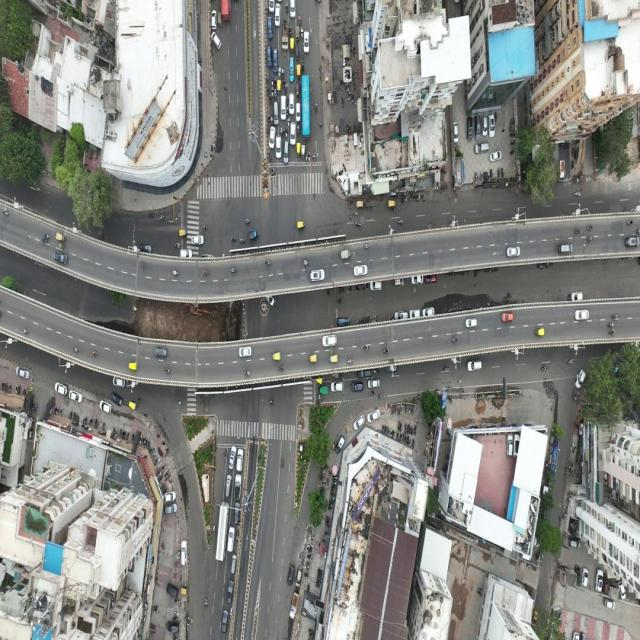3W: (127, 360, 139, 372), (340, 248, 352, 260), (55, 231, 67, 242), (271, 350, 282, 362), (248, 230, 260, 241), (534, 327, 546, 338), (296, 219, 306, 232), (318, 385, 329, 396), (308, 353, 318, 364), (180, 585, 189, 597), (178, 228, 188, 238), (329, 353, 338, 363), (366, 200, 374, 211), (217, 11, 222, 28), (289, 39, 295, 53), (355, 200, 364, 209), (387, 199, 396, 208), (296, 64, 301, 79), (302, 144, 306, 161), (277, 80, 281, 96), (297, 142, 301, 158), (296, 46, 300, 62), (296, 82, 300, 98)
Bus: (215, 502, 230, 561), (302, 74, 313, 142)
Cars: (233, 474, 243, 500), (153, 345, 169, 361), (352, 263, 369, 278), (465, 359, 484, 372), (575, 370, 587, 390), (465, 116, 474, 142), (226, 579, 235, 604), (310, 269, 326, 283), (322, 334, 338, 348), (463, 316, 479, 330), (474, 143, 490, 157), (573, 309, 590, 322), (334, 436, 346, 454), (507, 245, 522, 259), (180, 540, 188, 566), (224, 473, 232, 499), (352, 415, 365, 431), (367, 408, 380, 424), (568, 289, 584, 302), (624, 235, 640, 248), (210, 32, 221, 50), (54, 252, 68, 266), (166, 621, 179, 636), (330, 381, 345, 394), (558, 242, 573, 255), (287, 563, 295, 587), (501, 311, 515, 324), (475, 114, 482, 140), (453, 120, 460, 146), (238, 346, 253, 358), (221, 609, 228, 634), (482, 114, 489, 139), (337, 315, 350, 328), (425, 273, 438, 286), (237, 448, 244, 472), (410, 273, 424, 285), (234, 501, 241, 524), (229, 446, 236, 469), (266, 17, 273, 40), (303, 31, 310, 54), (392, 310, 408, 320), (140, 241, 152, 254), (191, 235, 204, 247), (351, 382, 364, 394), (385, 364, 398, 376), (370, 280, 383, 292), (422, 306, 435, 318), (489, 113, 495, 139), (283, 140, 289, 166), (165, 504, 179, 515), (276, 135, 282, 160), (273, 48, 279, 73), (289, 58, 295, 83), (231, 554, 238, 575), (490, 152, 503, 163), (290, 0, 297, 20), (269, 127, 275, 150), (273, 102, 279, 125), (290, 123, 296, 146), (289, 93, 295, 116), (266, 45, 272, 68), (275, 5, 281, 28), (296, 568, 303, 587), (165, 491, 177, 502), (296, 100, 302, 122), (392, 277, 405, 287), (179, 250, 193, 259), (368, 379, 380, 389), (409, 308, 421, 318), (211, 10, 217, 30), (357, 370, 371, 378)
LCV: (288, 591, 300, 620), (166, 583, 178, 599), (280, 96, 287, 120)
M2W: (158, 212, 167, 225), (230, 265, 238, 277), (2, 208, 11, 218), (22, 326, 30, 337), (243, 217, 252, 226), (243, 369, 251, 379), (362, 242, 370, 252), (280, 457, 286, 470), (265, 257, 272, 268), (163, 367, 172, 375), (202, 268, 210, 277), (302, 258, 310, 267), (450, 335, 458, 344), (566, 358, 575, 366), (573, 191, 582, 199), (173, 268, 180, 278), (269, 394, 274, 408), (542, 364, 549, 374), (278, 365, 286, 373), (346, 357, 354, 365), (362, 344, 370, 352), (441, 365, 449, 373), (355, 221, 363, 229), (91, 349, 98, 358), (335, 298, 344, 305), (607, 329, 616, 336), (611, 314, 620, 321), (204, 596, 209, 608), (203, 222, 209, 232), (58, 243, 66, 250), (72, 346, 80, 353), (382, 348, 390, 355), (574, 227, 581, 235), (586, 236, 594, 243), (371, 369, 380, 375), (606, 322, 615, 328), (285, 3, 289, 16), (44, 232, 51, 239), (398, 218, 405, 225), (627, 219, 634, 226), (587, 224, 593, 232), (314, 102, 318, 114), (270, 167, 275, 176), (175, 242, 181, 249), (231, 236, 237, 243), (240, 238, 246, 245), (377, 394, 384, 400), (369, 390, 376, 396), (223, 450, 227, 460), (268, 153, 272, 163), (327, 288, 331, 298), (42, 239, 48, 245), (236, 532, 240, 541), (348, 215, 353, 221), (313, 152, 316, 162), (308, 152, 311, 162), (319, 121, 323, 128), (348, 204, 352, 210), (354, 211, 358, 216)
